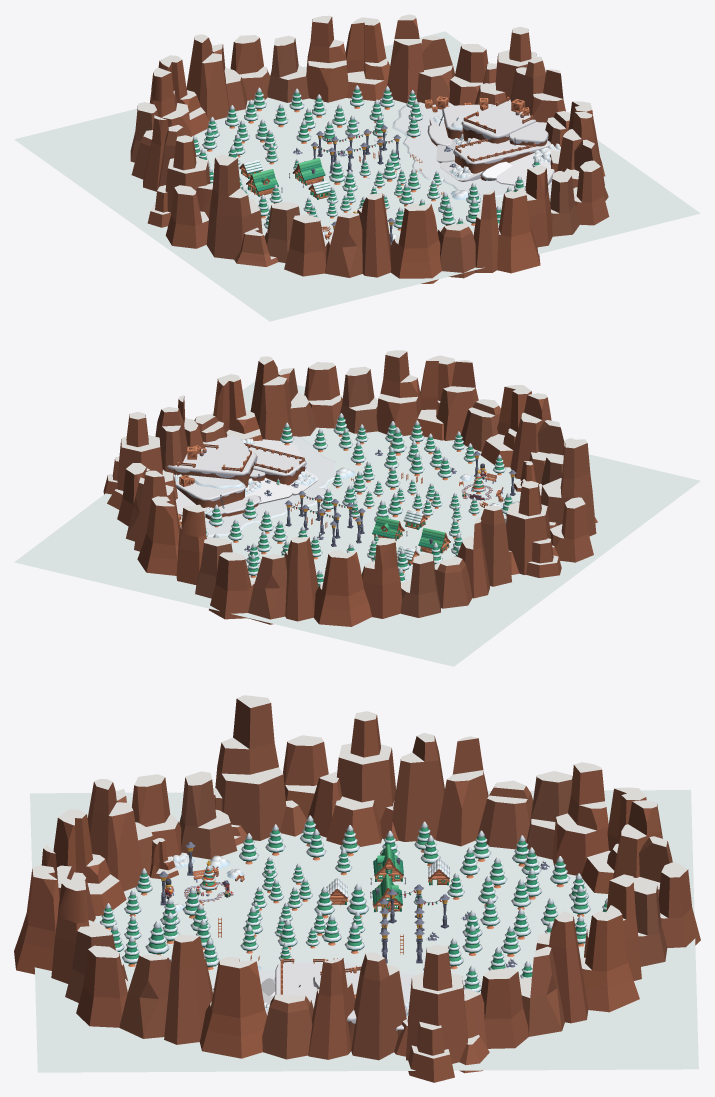
The model's file is decorations.glb.
3 views of the same model, one above another, from view 1: azimuth 30°, elevation 25°; view 2: azimuth 150°, elevation 25°; view 3: azimuth 270°, elevation 25° (orthographic). The views are drawn at different scales.
Parts seen in each view (by area): view 1: ground_grass, rock_tallA, rock_tallH.004, rock_tallH.001, rock_tallG.001, rock_tallB, rock_tallH.003, rock_tallI, rock_tallI.001, rock_tallI.003, rock_tallB.001, rock_tallF.008 (+33 smaller); view 2: ground_grass, rock_tallB, rock_tallH, rock_tallG.002, rock_tallA, rock_tallB.001, rock_tallI.002, rock_tallH.001, rock_tallG, rock_tallI, rock_tallF.001, rock_tallJ (+32 smaller); view 3: ground_grass, rock_tallA, rock_tallB.001, rock_tallB, rock_tallH.002, rock_tallC.001, rock_tallG, rock_tallH.001, rock_tallC, rock_tallI.002, rock_tallI.003, rock_tallD (+25 smaller).
Boxes of the visible parts, x1,y1,x2,y2 form: ground_grass: (14,31,700,321); rock_tallA: (206,154,278,266); rock_tallH.004: (390,203,441,283); rock_tallH.001: (345,17,389,100); rock_tallG.001: (306,15,348,102); rock_tallB: (147,135,212,227); rock_tallH.003: (497,187,540,273); rock_tallI: (186,34,229,121); rock_tallI.001: (387,14,423,103); rock_tallI.003: (357,193,391,277); rock_tallB.001: (474,26,536,104); rock_tallF.008: (284,214,327,276); ground_grass: (14,381,700,666); rock_tallB: (506,481,561,577); rock_tallH: (313,550,371,626); rock_tallG.002: (376,350,421,435); rock_tallA: (541,439,597,536); rock_tallB.001: (103,412,177,509); rock_tallI.002: (250,356,292,440); rock_tallH.001: (137,496,179,575); rock_tallG: (361,537,401,618); rock_tallI: (285,537,318,621); rock_tallF.001: (209,552,254,619); rock_tallJ: (248,554,286,624); ground_grass: (30,790,698,1072); rock_tallA: (213,695,306,845); rock_tallB.001: (394,944,489,1082); rock_tallB: (307,711,398,846); rock_tallH.002: (199,956,266,1058); rock_tallC.001: (351,952,406,1060); rock_tallG: (552,762,608,875); rock_tallH.001: (580,905,639,1012); rock_tallC: (392,733,444,841); rock_tallI.002: (164,934,212,1044); rock_tallI.003: (87,779,142,891); rock_tallD: (436,736,488,846).
Size of the model in its own units: 164 by 33.25 by 166.
319 materials, 282 textured.
